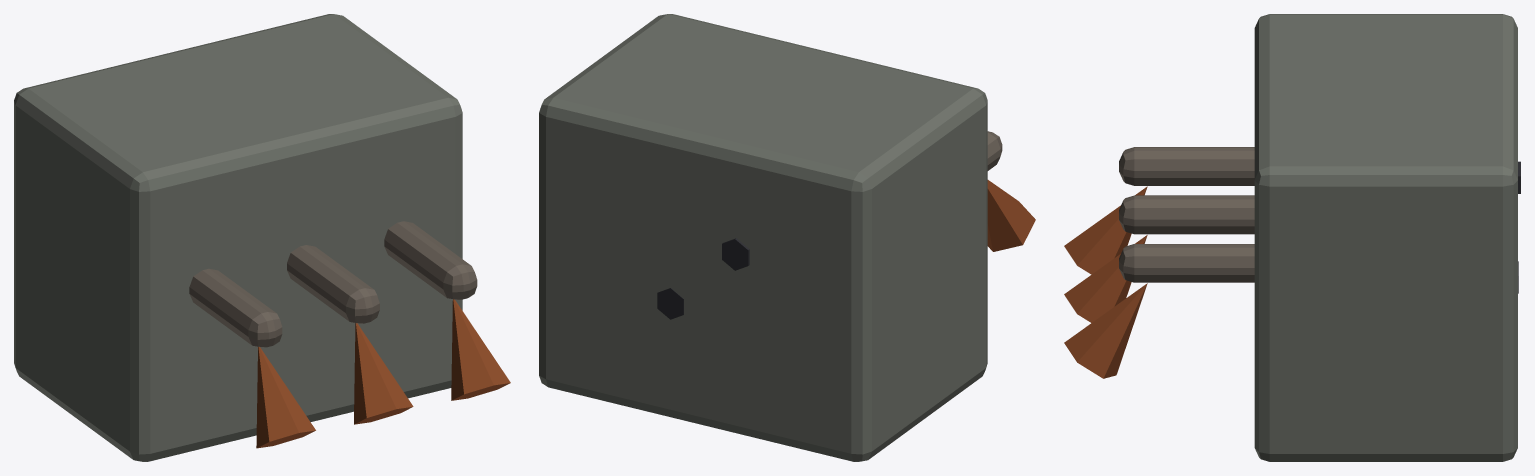
Rendered from mo_hooks.glb.
The picture shows the model from 3 angles, left to right: view 1: azimuth 30°, elevation 25°; view 2: azimuth 150°, elevation 25°; view 3: azimuth 270°, elevation 25°; orthographic projection.
Parts seen in each view (by area): view 1: mo_hooks; view 2: mo_hooks; view 3: mo_hooks.
Boxes of the visible parts, box(x1,y1,x2,y2) form: mo_hooks: box(14, 14, 510, 461); mo_hooks: box(539, 14, 1035, 461); mo_hooks: box(1064, 14, 1520, 461).
Size of the model in its own units: 0.1317 by 0.11 by 0.1544.
